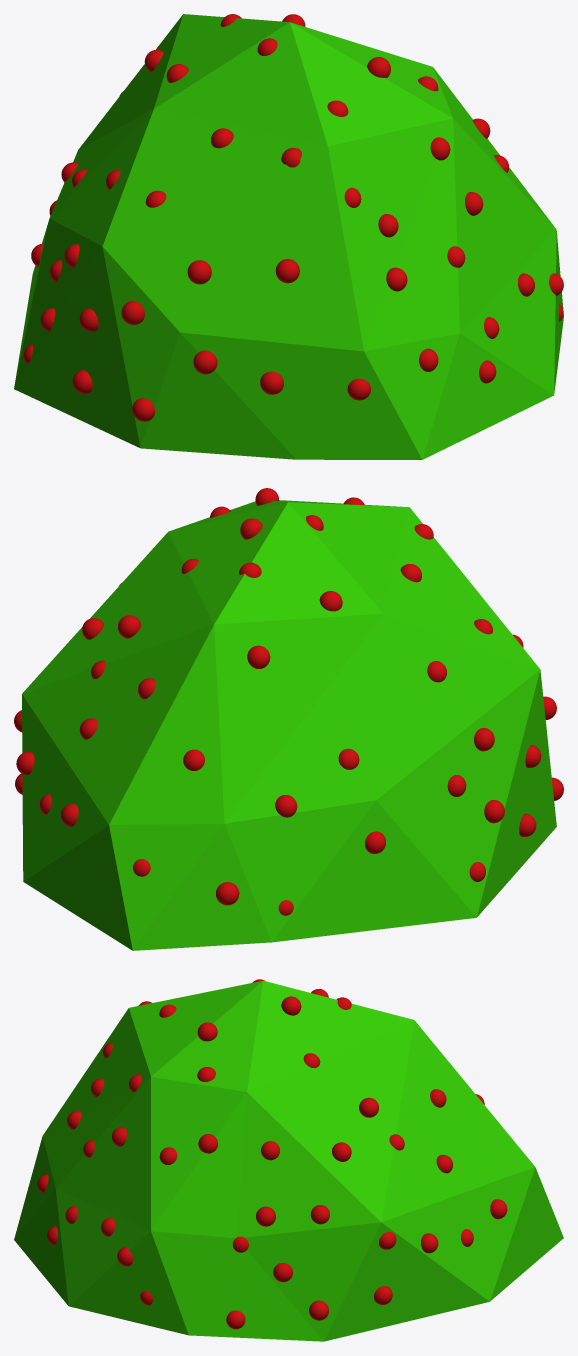
3 renders of one model, top to bottom at view 1: azimuth 30°, elevation 25°; view 2: azimuth 150°, elevation 25°; view 3: azimuth 270°, elevation 25°, orthographic. The views are drawn at different scales.
Visible parts, largest first — view 1: Bush; view 2: Bush; view 3: Bush.
Boxes of the visible parts, left/top/right/bottom form: Bush: left=14, top=14, right=563, bottom=459; Bush: left=14, top=488, right=563, bottom=950; Bush: left=14, top=979, right=563, bottom=1341.
Bounding box in the file's own units: 2.34 × 1.62 × 2.88.
